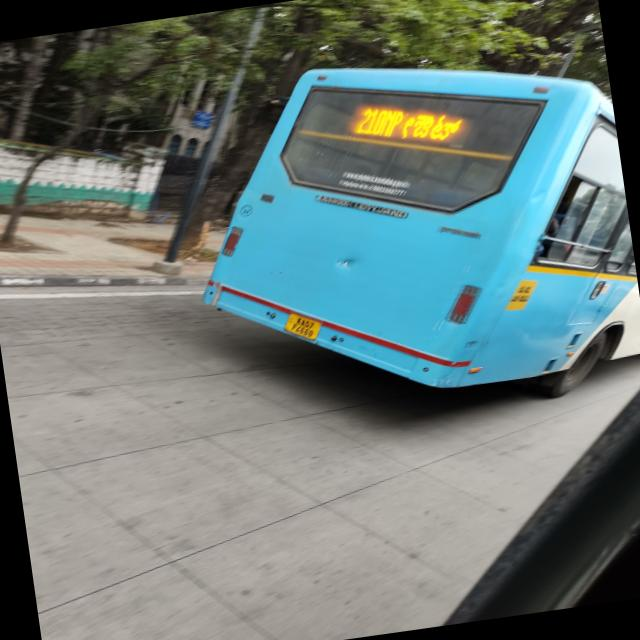bus: (167, 0, 640, 456)
display: (343, 90, 476, 157)
dnumber: (348, 101, 408, 146)
